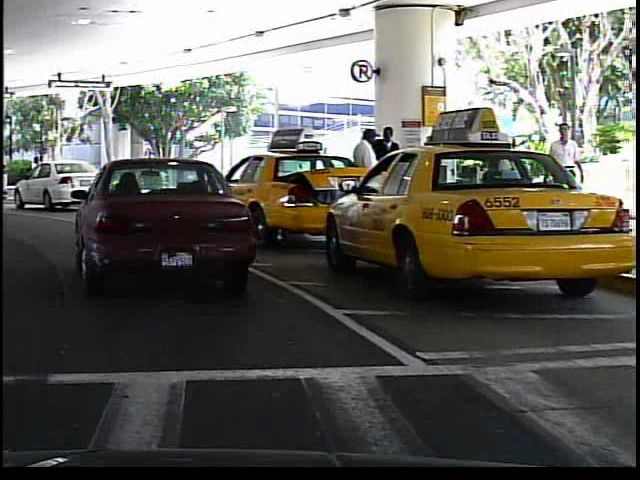person: (543, 117, 585, 231), (348, 126, 382, 228), (373, 125, 403, 223), (23, 151, 48, 194)
